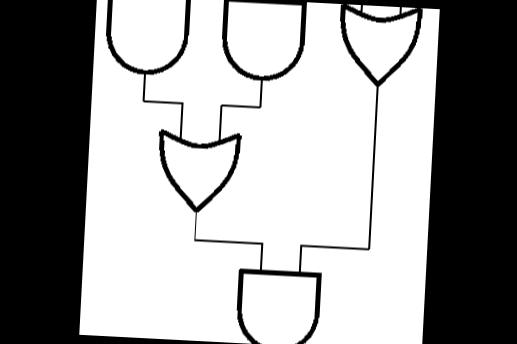and: (229, 258, 329, 344), (213, 0, 309, 89), (98, 0, 195, 83)
or: (148, 122, 246, 223), (328, 4, 428, 96)
